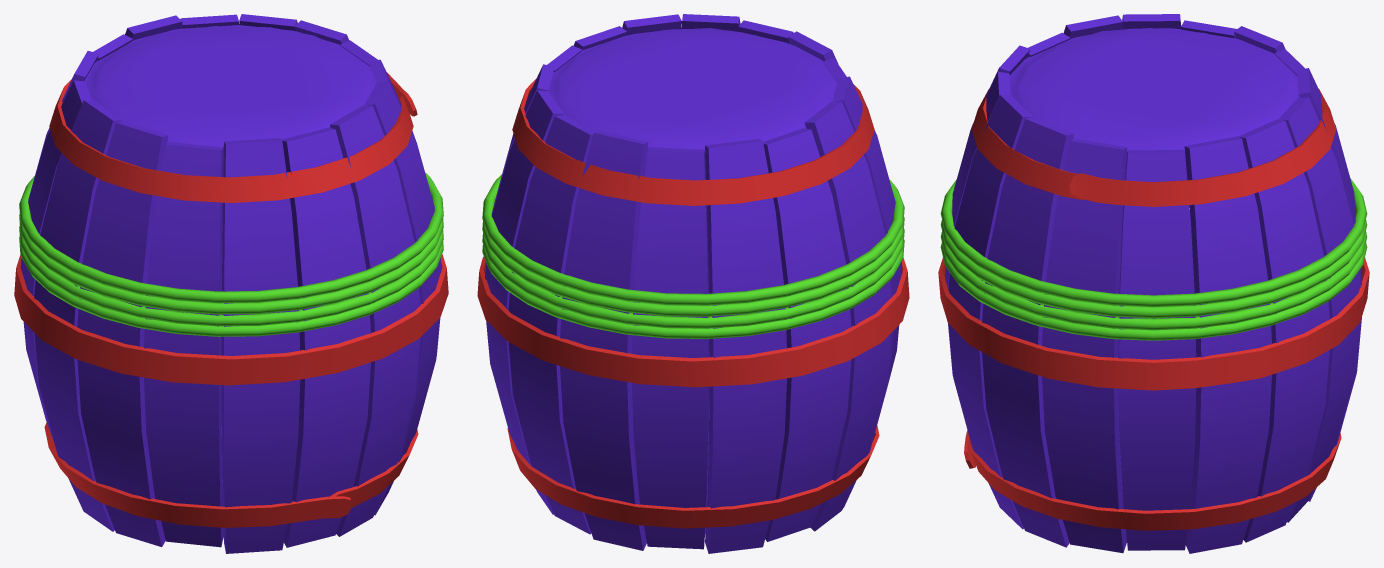
Rendered from Barrel-1_low.fbx.
The picture shows the model from 3 angles, left to right: view 1: azimuth 30°, elevation 25°; view 2: azimuth 150°, elevation 25°; view 3: azimuth 270°, elevation 25°; orthographic projection.
Visible parts, largest first — view 1: Barrel_1_low; view 2: Barrel_1_low; view 3: Barrel_1_low.
Part boxes in pixels (x1,y1,x2,y2): Barrel_1_low: (14, 14, 448, 553); Barrel_1_low: (477, 14, 909, 553); Barrel_1_low: (938, 14, 1369, 553).
Bounding box in the file's own units: 190 × 198 × 187.
